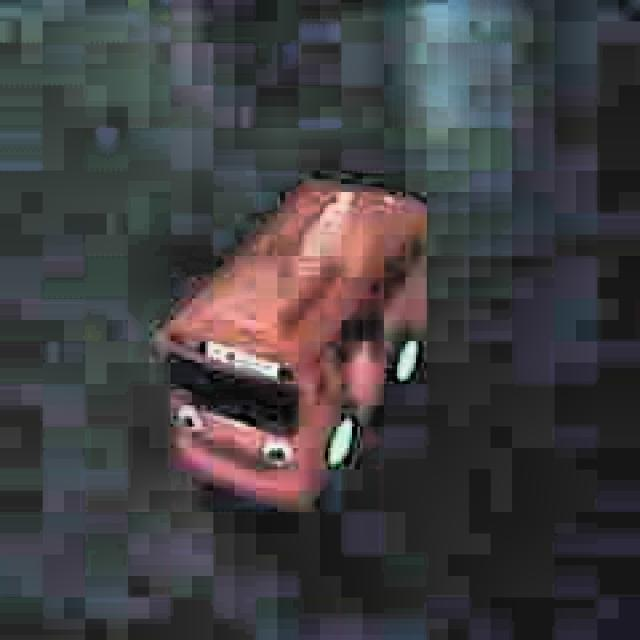bus: (143, 159, 446, 527)
